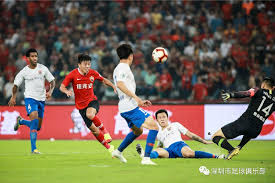10+: (1, 1, 275, 163)
down: (155, 110, 224, 159)
